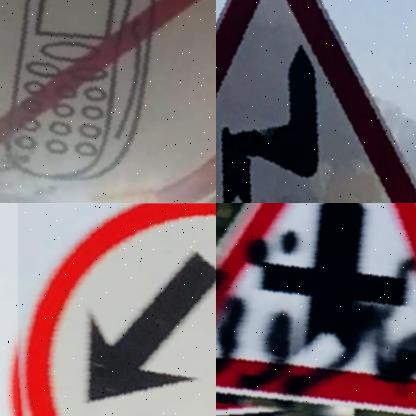Cross Roads: (216, 203, 416, 416)
Road Divides: (19, 204, 216, 416)
Zigzag Road Ahead: (216, 0, 416, 203)
